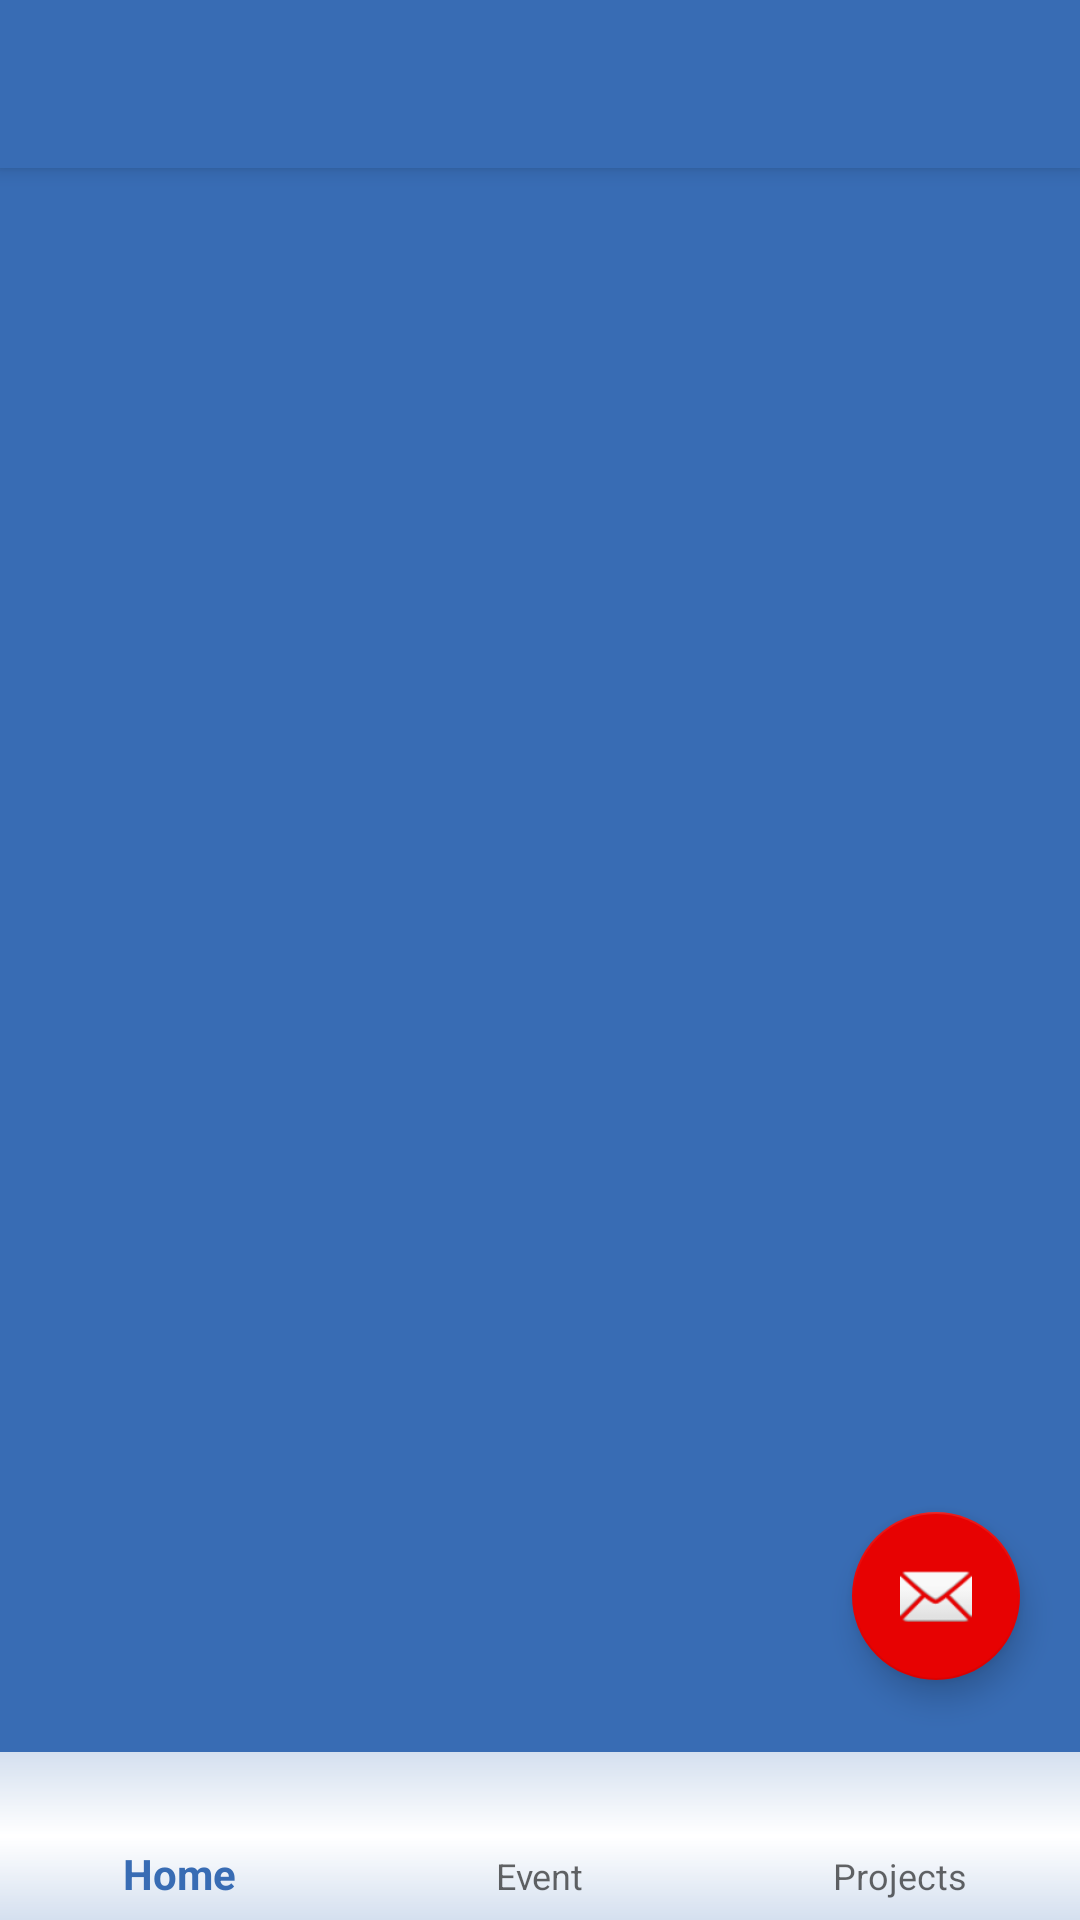

Point at icon controls on the screen. Image size 1080w x 1920h, points as point (x, y).
email: point (936, 1596)
